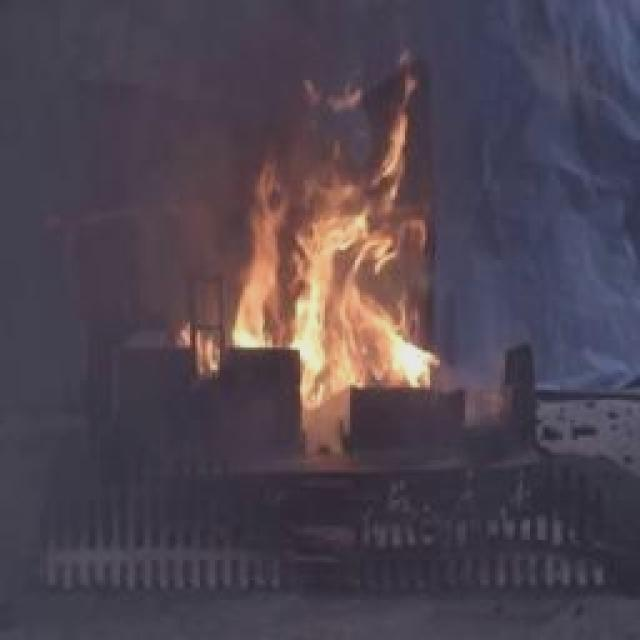fire: (246, 68, 444, 422)
